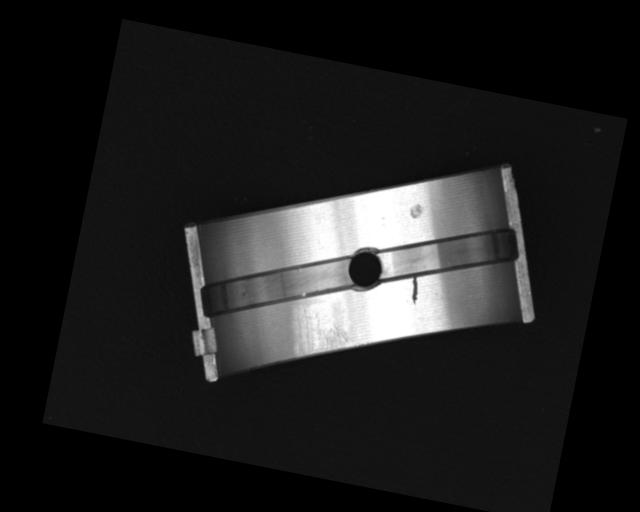bruise: (406, 202, 425, 221)
gap: (201, 232, 356, 337), (376, 207, 521, 298)
hole: (344, 247, 387, 290)
nick: (406, 274, 422, 307)
scratch: (287, 300, 354, 374)
